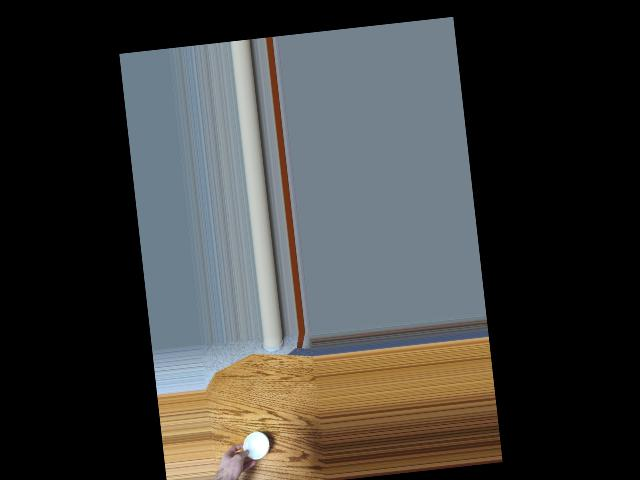cotage: (236, 430, 272, 468)
